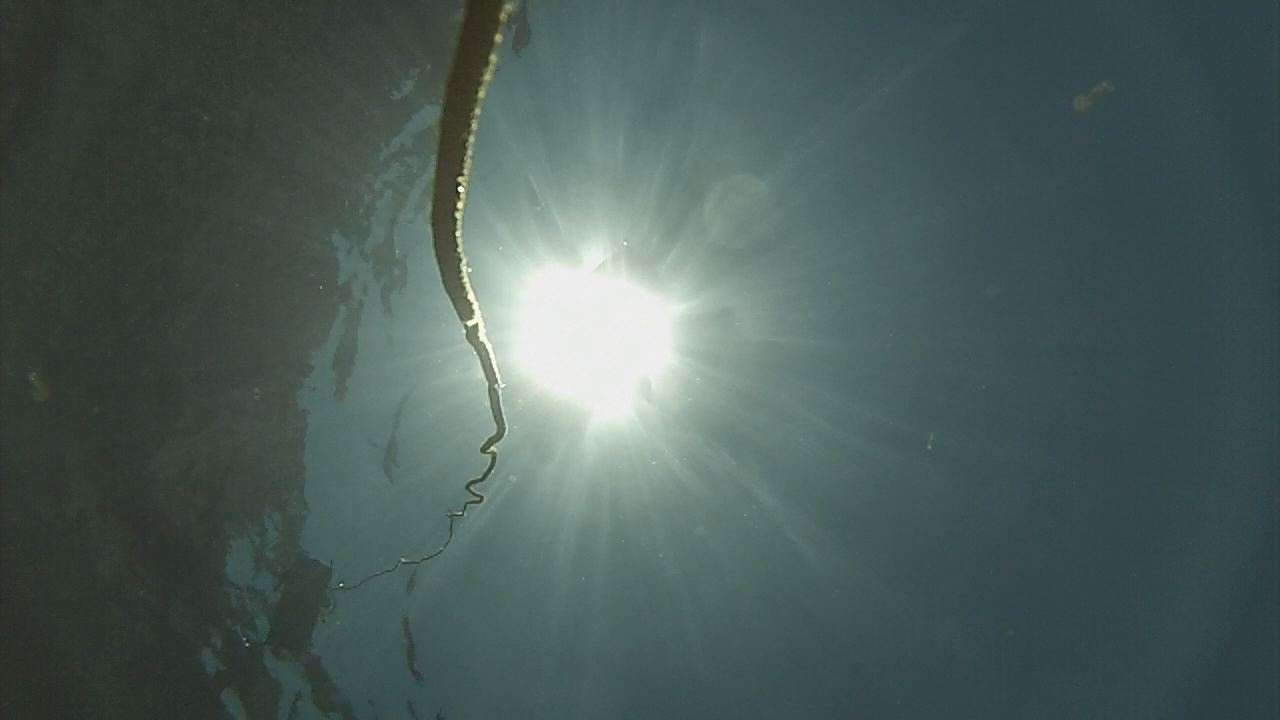pelagia: (1066, 79, 1117, 118), (16, 364, 58, 410)
